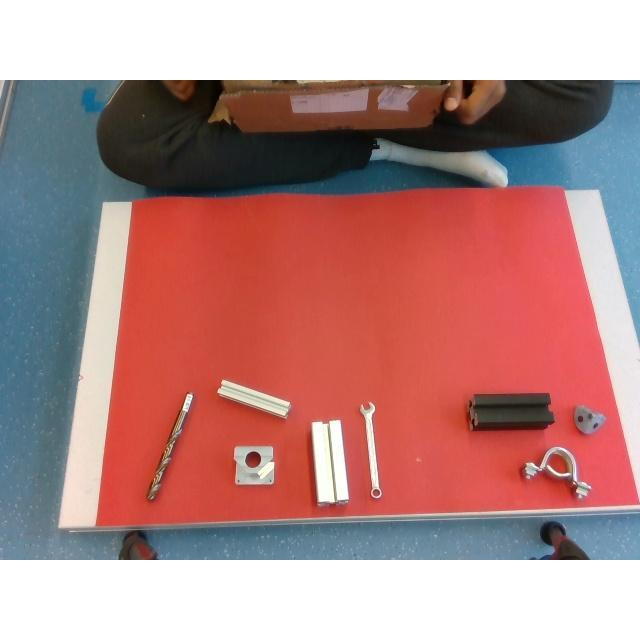Drill: (146, 392, 194, 500)
F20_20_G: (217, 378, 291, 418)
Housing: (522, 446, 590, 498)
S40_40_B: (468, 394, 554, 431)
S40_40_G: (311, 418, 349, 506)
